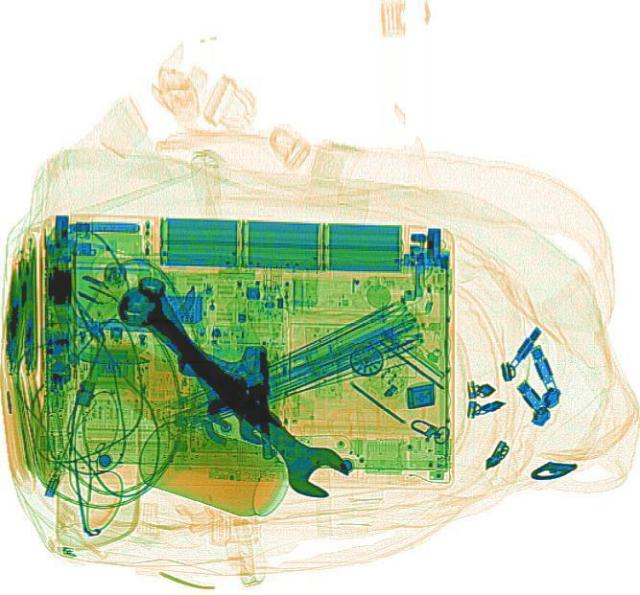Gun: (176, 343, 270, 460)
Wrench: (100, 272, 356, 507), (124, 265, 286, 448)
